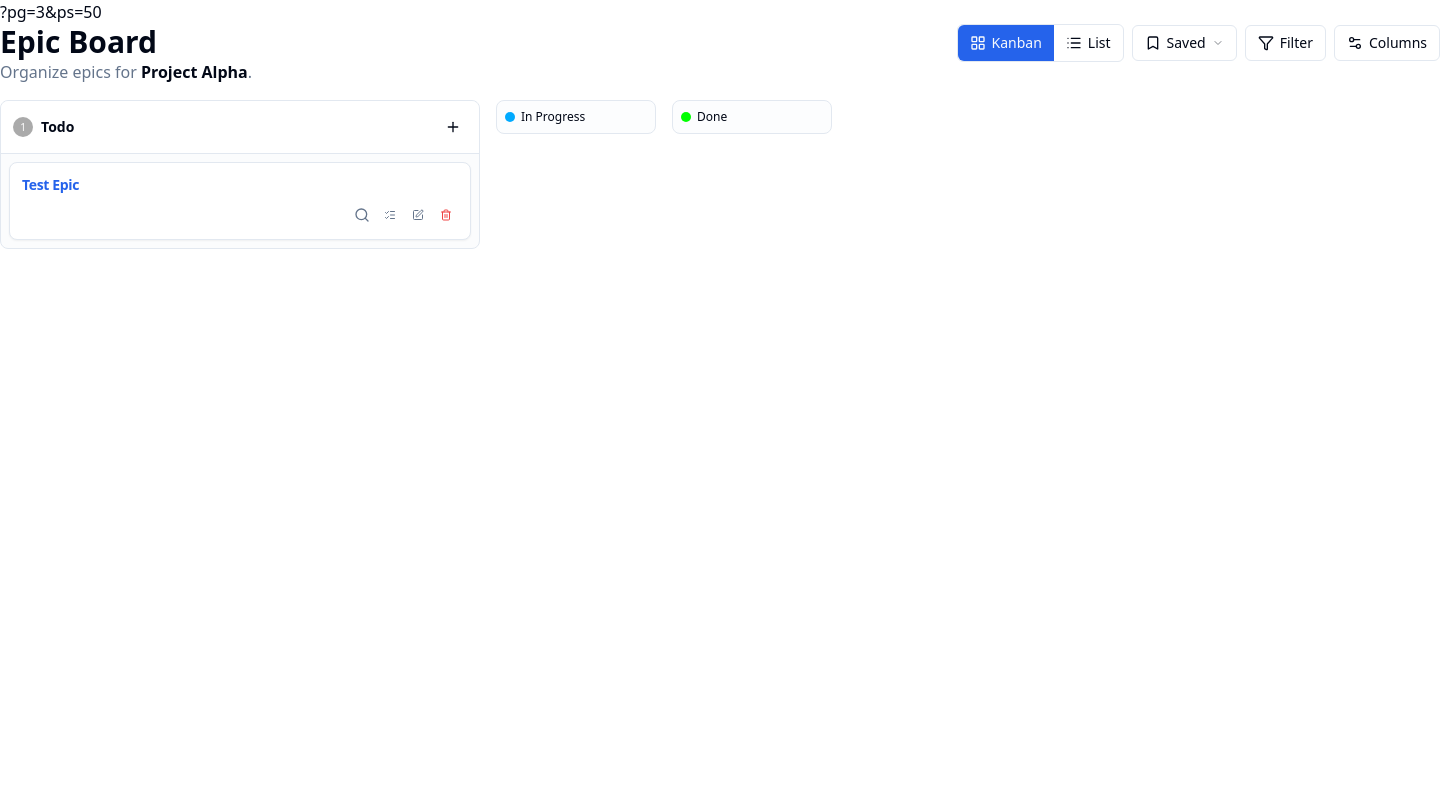
Scenario: BoardPage — Saved filters integration › resets pagination on apply
The image size is (1440, 810).
Expected: the text with test id "loc-search" shows "pg=3", [0,1,102,23]
// Open saved filters dropdown
Click the button with aria-label "saved filters" at (1184, 43), box [1132,25,1237,61]
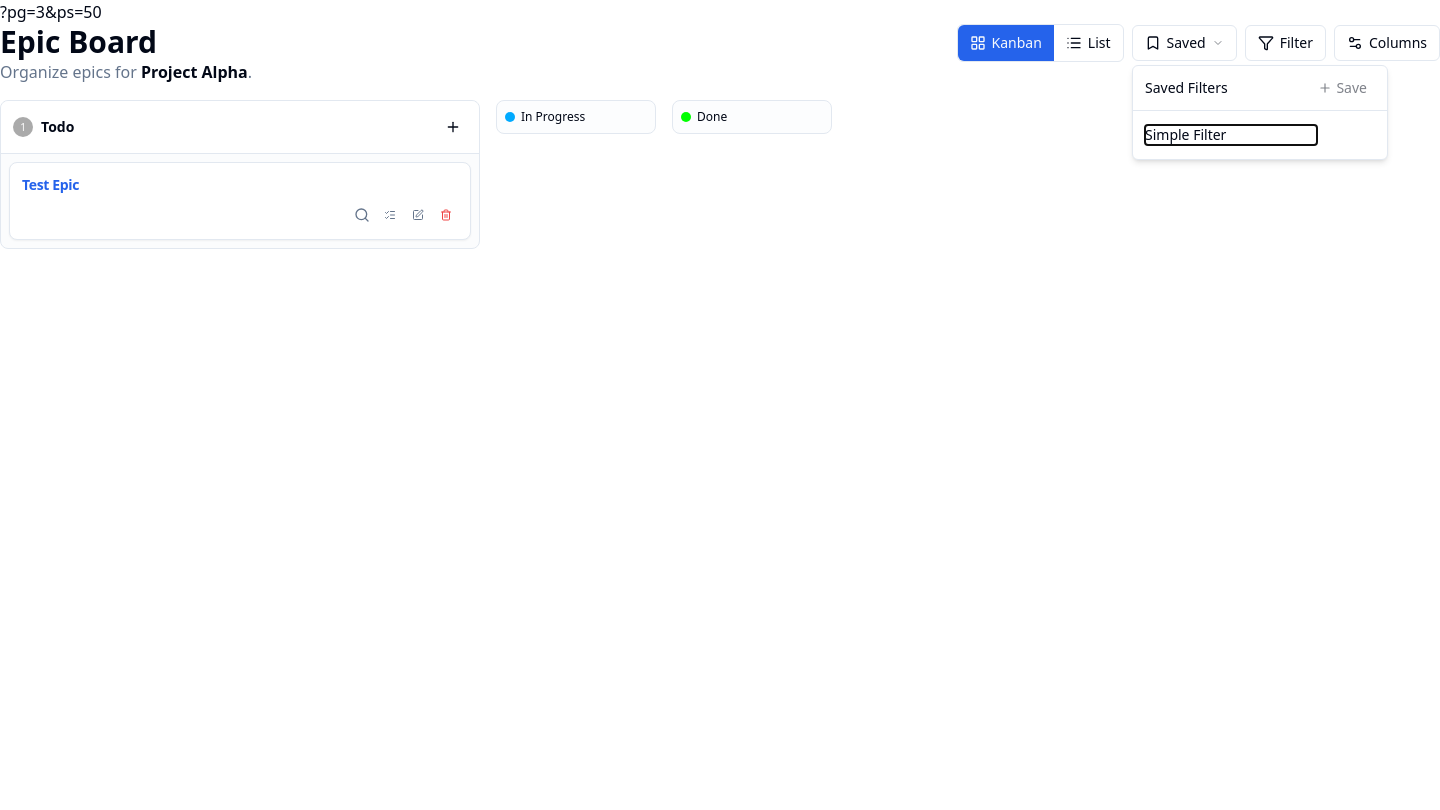
Now the button "Simple Filter" is shown
// Apply saved filter
Click the button "Simple Filter" at (1231, 135), box [1145,125,1317,145]
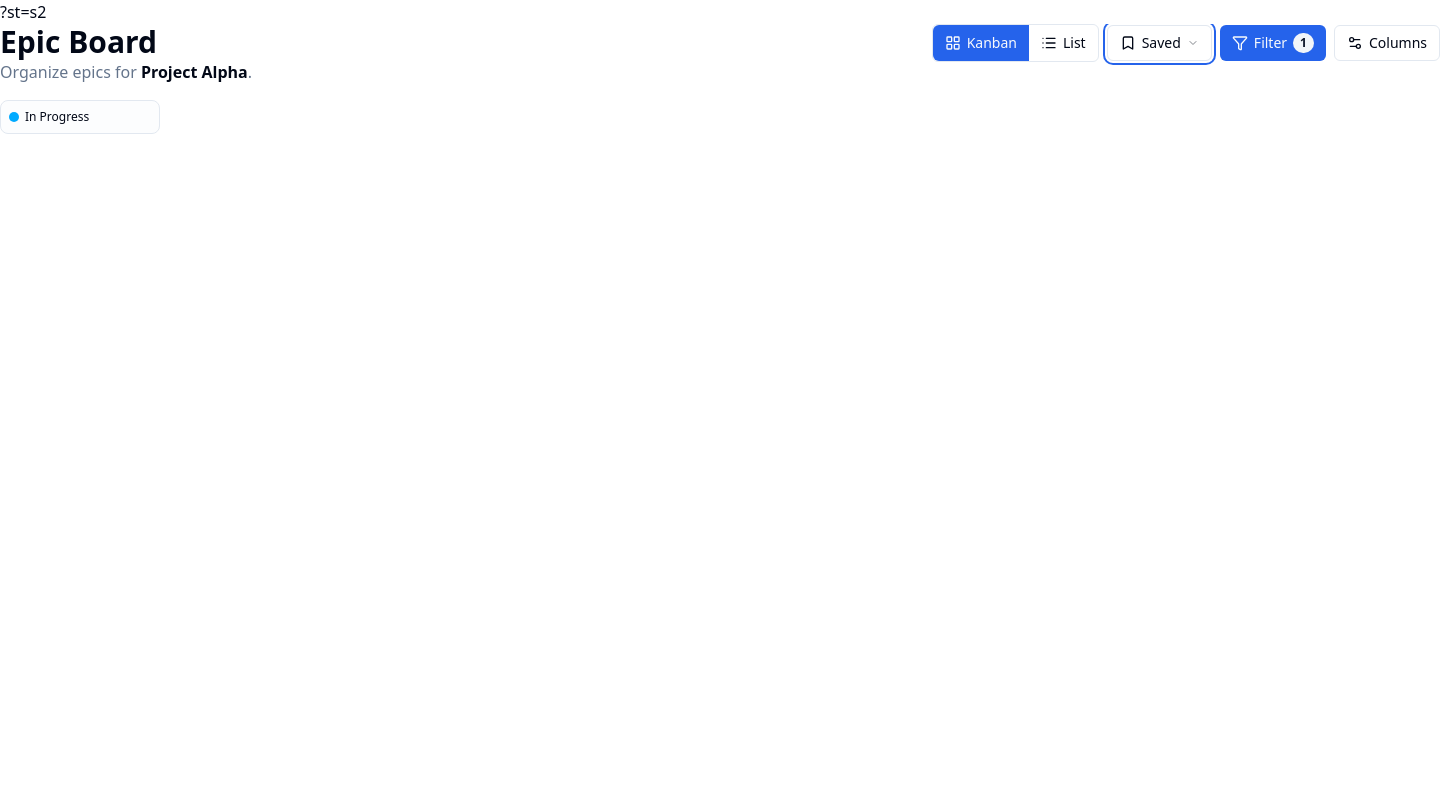
Now the text with test id "loc-search" reads "?st=s2", box [0,1,46,23]
Now the text with test id "loc-search" no longer shows "pg="
Now the text with test id "loc-search" no longer shows "ps="
